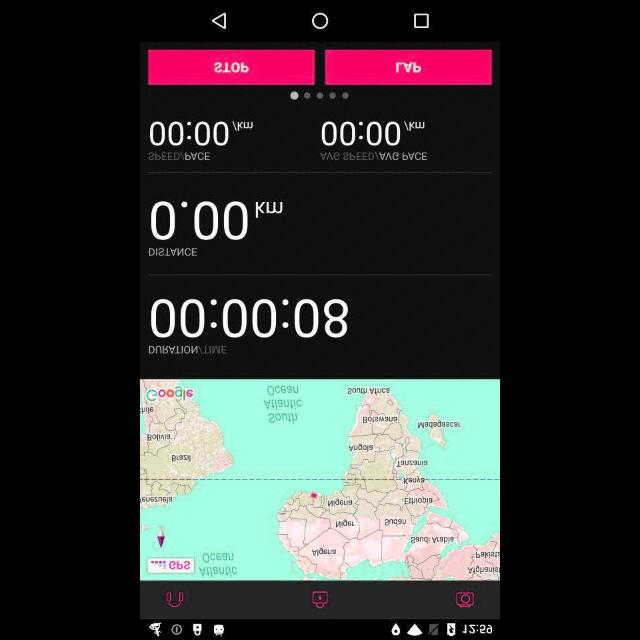icon: (456, 592, 474, 608), (312, 13, 328, 29), (312, 592, 328, 608), (212, 12, 226, 30), (167, 593, 183, 607), (414, 14, 428, 28)
map: (140, 380, 500, 580)
multitab: (140, 580, 500, 620)
pageindicator: (291, 90, 349, 100)
panel: (140, 0, 500, 46)
text: (152, 299, 348, 337), (152, 202, 282, 240), (150, 121, 254, 145), (322, 122, 424, 146), (321, 152, 427, 160), (150, 152, 210, 160), (148, 346, 226, 352), (215, 60, 248, 74), (395, 59, 421, 75), (150, 248, 197, 256)
textbutton: (326, 50, 492, 84), (148, 50, 314, 84)
uppertaskbar: (141, 620, 499, 640)
